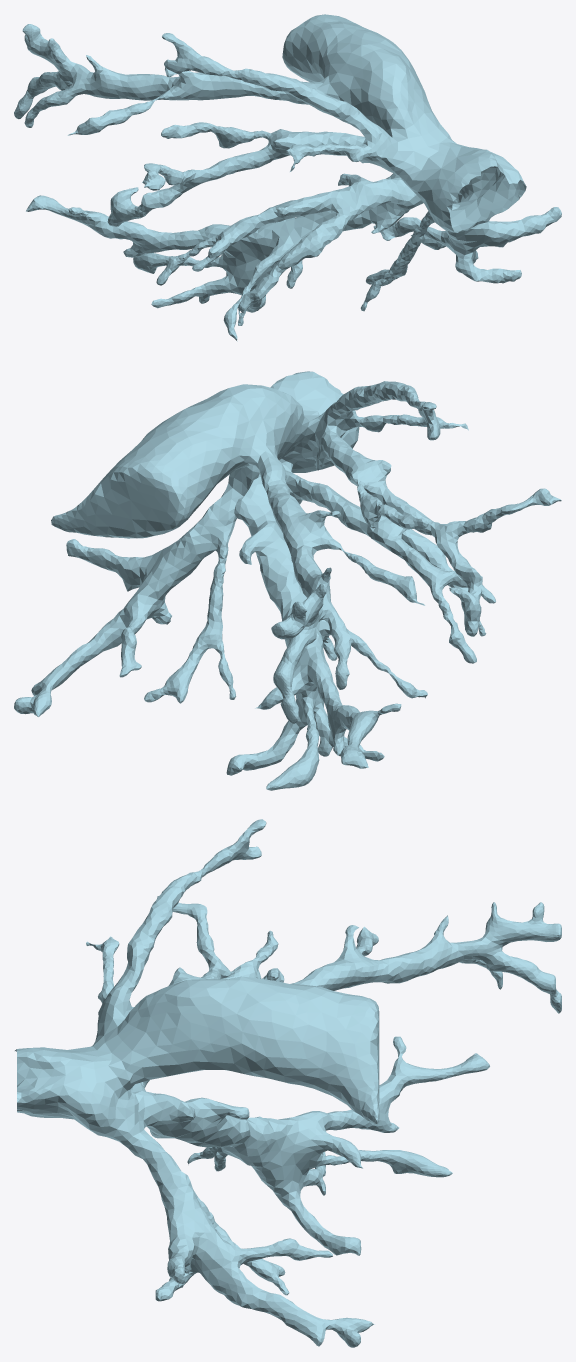
The model's file is venoussystem.obj.
The picture shows the model from 3 angles, top to bottom: view 1: azimuth 30°, elevation 25°; view 2: azimuth 150°, elevation 25°; view 3: azimuth 270°, elevation 25°; orthographic projection. The views are drawn at different scales.
Visible parts, largest first — view 1: grp1; view 2: grp1; view 3: grp1.
Boxes of the visible parts, box(x1,y1,x2,y2) form: grp1: box(14, 14, 561, 341); grp1: box(14, 371, 561, 790); grp1: box(15, 819, 561, 1347).
Size of the model in its own units: 148 by 109 by 149.
